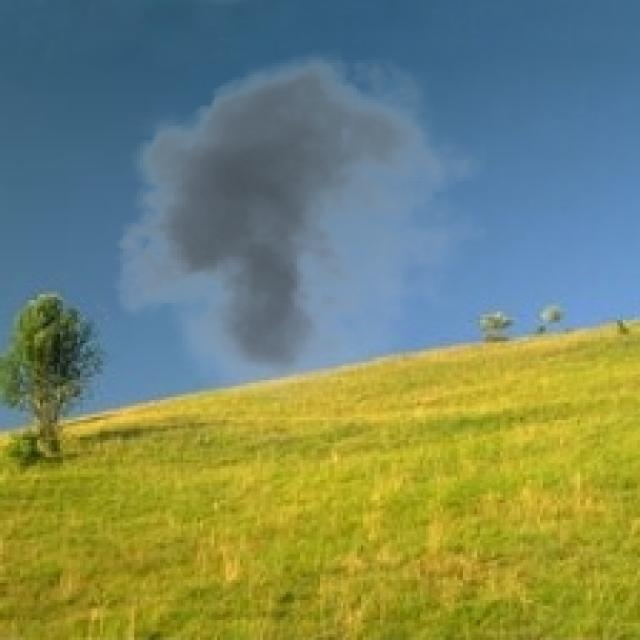smoke: (97, 37, 489, 406)
